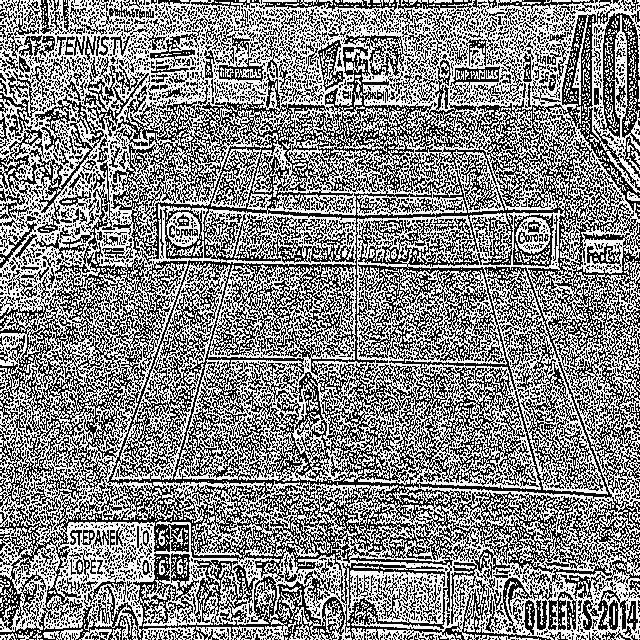left side: (451, 150, 609, 494), (109, 147, 261, 480)
player: (284, 353, 338, 478), (264, 131, 292, 210)
